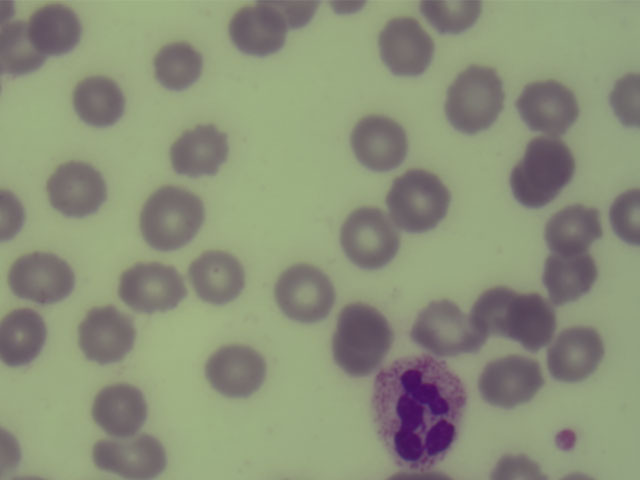Platelets: (545, 420, 584, 456)
RBC: (334, 301, 392, 366), (91, 434, 168, 480), (511, 140, 565, 201), (416, 302, 470, 351), (93, 381, 147, 430), (208, 345, 262, 394), (79, 310, 133, 359), (342, 212, 396, 261), (279, 268, 333, 317), (189, 253, 243, 302), (124, 261, 178, 310), (15, 251, 69, 300), (143, 193, 197, 242), (48, 165, 102, 214), (170, 127, 224, 176), (391, 176, 445, 225), (231, 7, 285, 56), (72, 78, 126, 127), (150, 39, 204, 88), (25, 5, 79, 54), (483, 356, 537, 405), (551, 332, 605, 381), (542, 254, 596, 303), (545, 203, 599, 252), (522, 82, 576, 131), (449, 73, 503, 122), (352, 118, 406, 167), (378, 22, 432, 71), (1, 310, 47, 365), (606, 182, 640, 253), (514, 289, 554, 348), (1, 22, 42, 78), (477, 284, 521, 332), (604, 74, 640, 132), (259, 1, 324, 33), (489, 447, 548, 480), (422, 1, 486, 31), (1, 190, 29, 243)
WBC: (375, 357, 462, 470)
